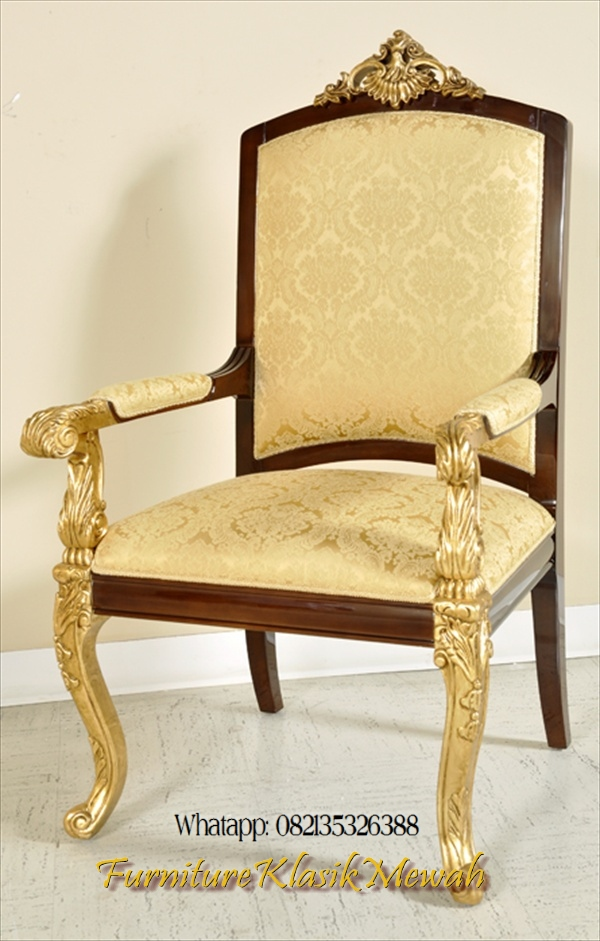Carving Chair: (67, 113, 571, 847)
